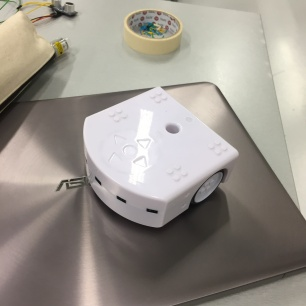thymio: (79, 82, 242, 229)
